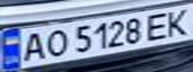1: (90, 19, 112, 51)
2: (106, 16, 130, 48)
5: (72, 21, 93, 54)
8: (124, 15, 148, 45)
A: (15, 29, 48, 63)
E: (139, 10, 175, 42)
K: (160, 6, 193, 37)
O: (39, 27, 69, 58)
